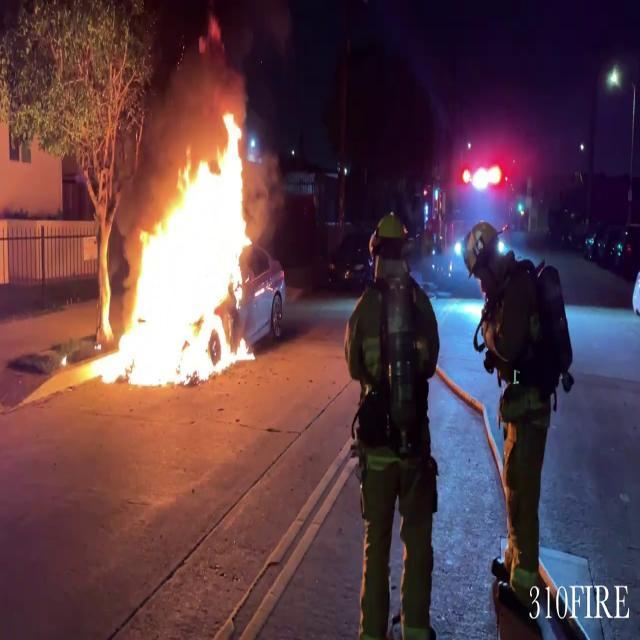Fire: (89, 108, 258, 390)
